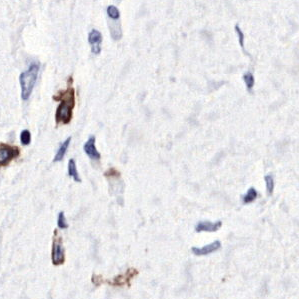Lymphocyte: (53, 80, 79, 129)
